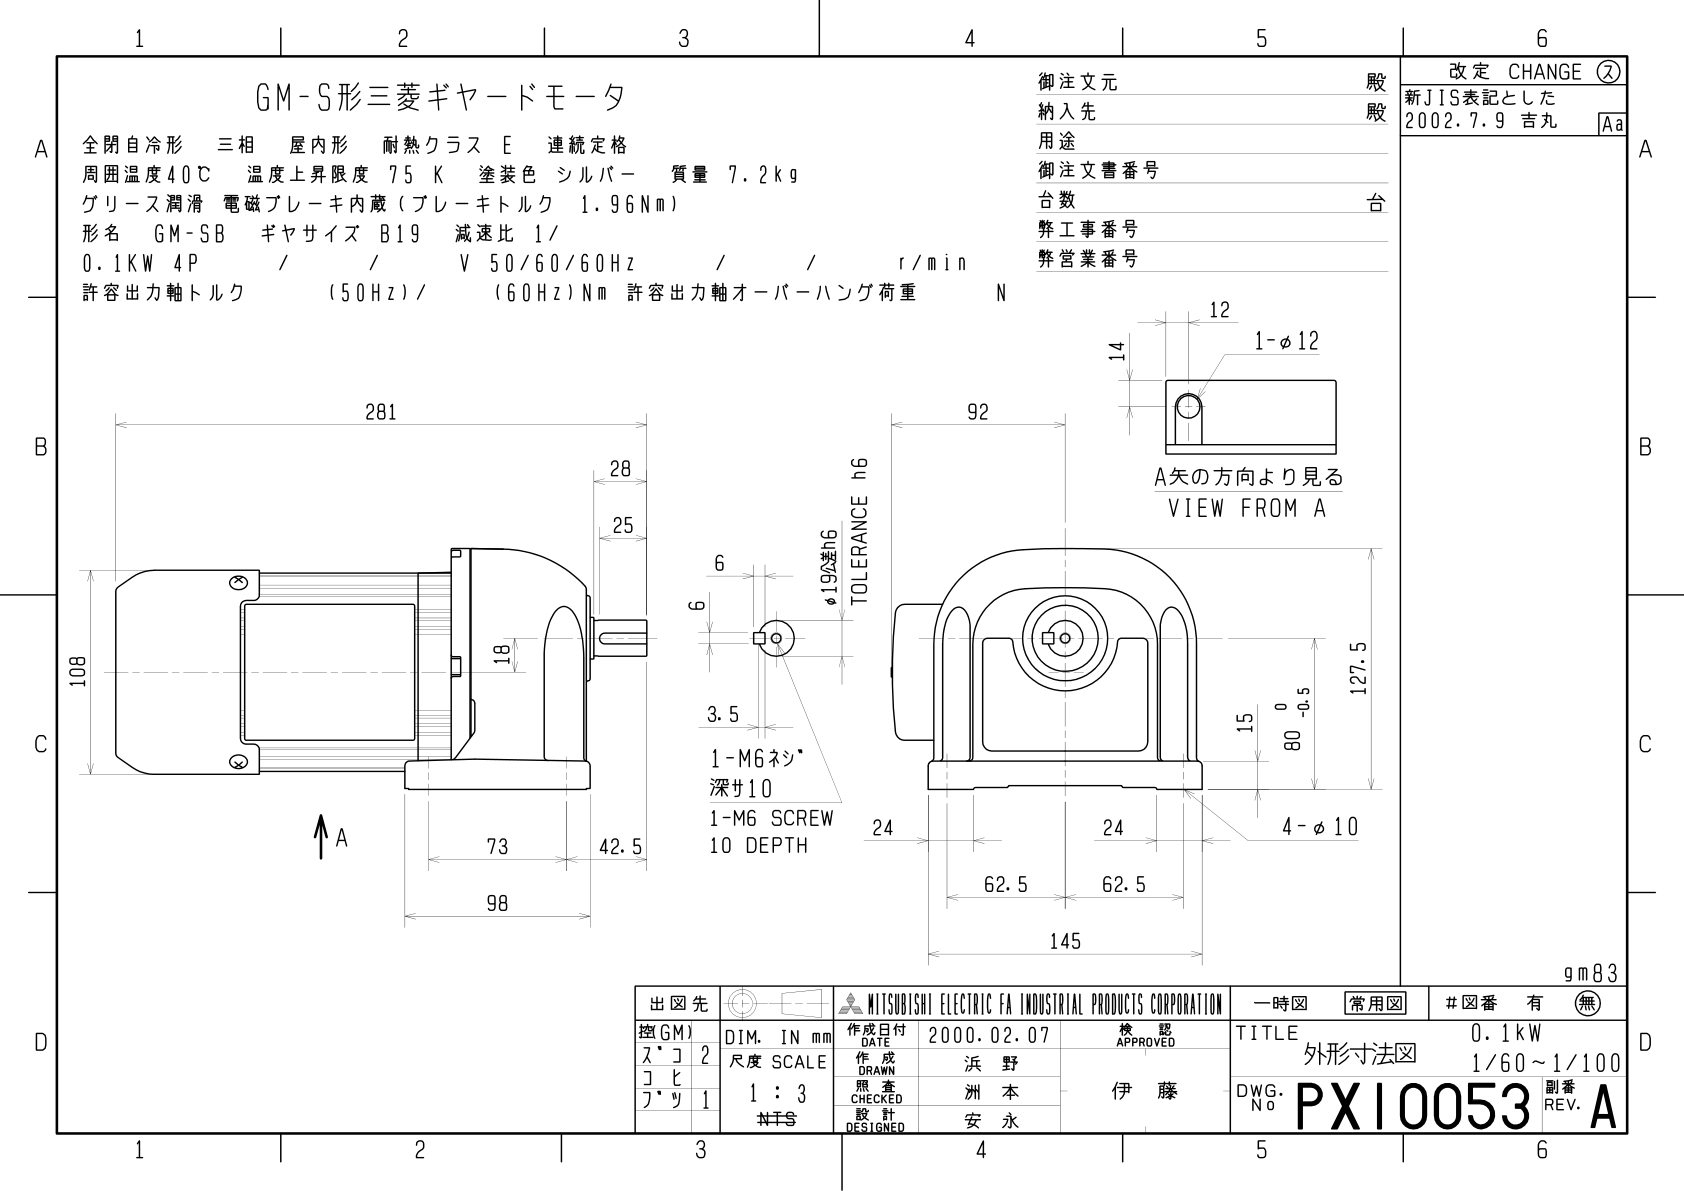GM_S_屋内＿三相_脚: (61, 298, 1393, 969)
